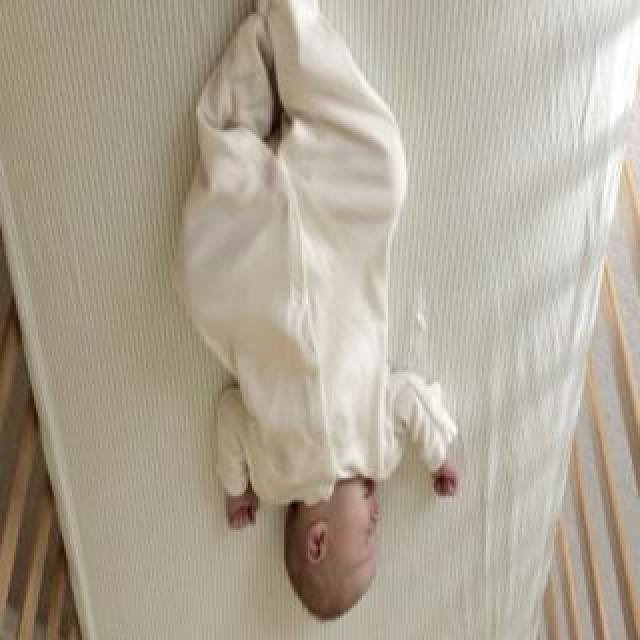baby: (186, 1, 464, 629)
